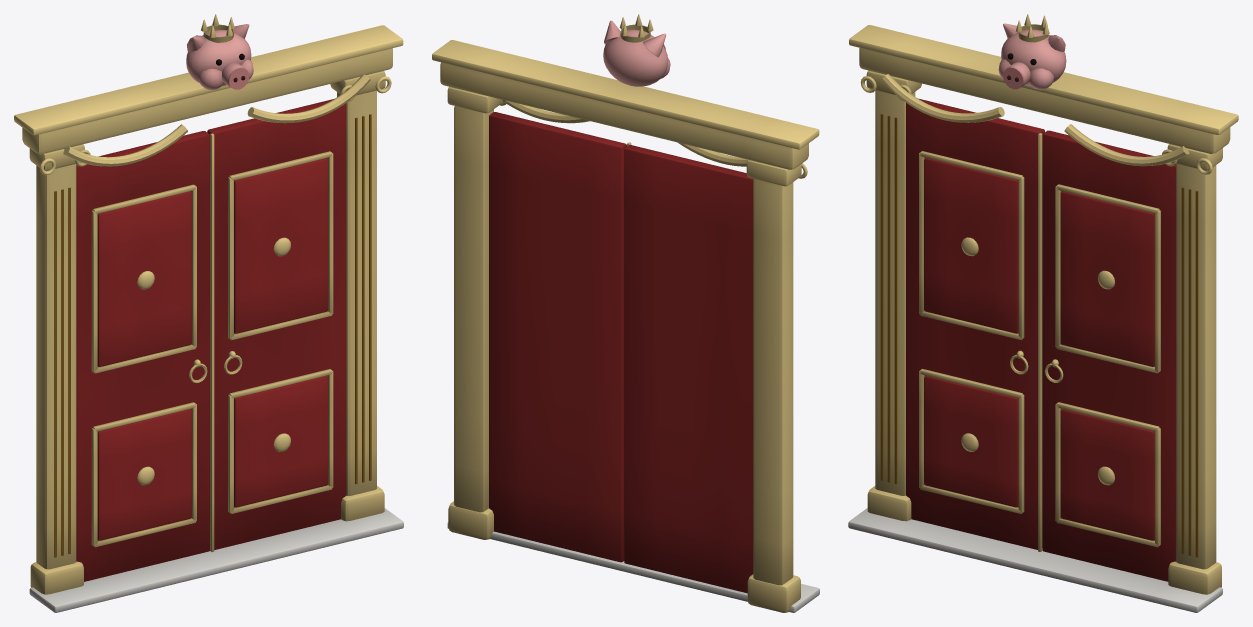
File: obj_kit_pigdoor.glb
3 renders of one model, left to right at view 1: azimuth 30°, elevation 25°; view 2: azimuth 150°, elevation 25°; view 3: azimuth 330°, elevation 25°, orthographic.
Parts seen in each view (by area): view 1: Cube.006, Cube.023, Cube.007, Cube.024, Cube, Cube.012, Cube.029, Cube.017, Cube.037, Cube.036, Cube.035, Cube.034 (+29 smaller); view 2: Cube.023, Cube.006, Cube, Cube.017, Cube.036, Cube.035, Cube.037, Sphere.006, Cube.005, Cube.022, Cube.004, Cube.021 (+2 smaller); view 3: Cube.023, Cube.006, Cube.007, Cube.024, Cube.017, Cube.012, Cube.029, Cube, Cube.037, Cube.036, Cube.035, Cube.034 (+29 smaller).
Boxes of the visible parts, x1,y1,x2,y2 form: Cube.006: (76, 131, 209, 581); Cube.023: (207, 99, 346, 549); Cube.007: (97, 191, 191, 366); Cube.024: (234, 158, 328, 333); Cube: (36, 164, 76, 569); Cube.012: (97, 409, 191, 540); Cube.029: (234, 376, 328, 507); Cube.017: (337, 90, 376, 495); Cube.037: (29, 508, 403, 612); Cube.036: (14, 25, 403, 135); Cube.035: (22, 48, 392, 154); Cube.034: (210, 133, 214, 551); Cube.023: (489, 112, 626, 562); Cube.006: (624, 145, 753, 593); Cube: (753, 179, 793, 585); Cube.017: (454, 106, 493, 512); Cube.036: (432, 40, 819, 149); Cube.035: (440, 62, 808, 169); Cube.037: (447, 522, 819, 612); Sphere.006: (603, 29, 667, 86); Cube.005: (747, 574, 800, 612); Cube.022: (448, 501, 493, 539); Cube.004: (746, 159, 801, 186); Cube.021: (447, 86, 502, 113); Cube.023: (1042, 130, 1176, 581); Cube.006: (906, 98, 1044, 549); Cube.007: (924, 158, 1018, 333); Cube.024: (1060, 191, 1154, 366); Cube.017: (1176, 163, 1216, 569); Cube.012: (924, 375, 1018, 507); Cube.029: (1060, 409, 1154, 540); Cube: (875, 90, 915, 495); Cube.037: (848, 508, 1222, 612); Cube.036: (849, 25, 1238, 134); Cube.035: (859, 48, 1230, 153); Cube.034: (1038, 133, 1042, 551).
Bounding box in the file's own units: 2.12 × 2.97 × 0.4141.
